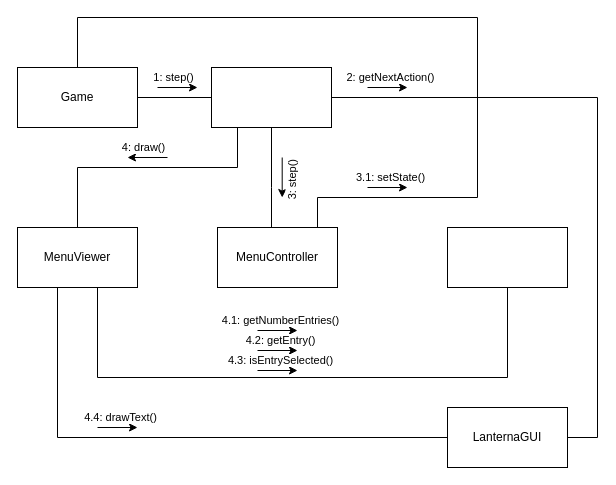
The diagram is 616 pixels wide and 485 high, and some of its shapes have lost their labels. Here are the shapes that lost their labels. From the top down, the box of each, then its label:
(210, 66, 332, 128): MenuState
(446, 226, 568, 288): Menu
